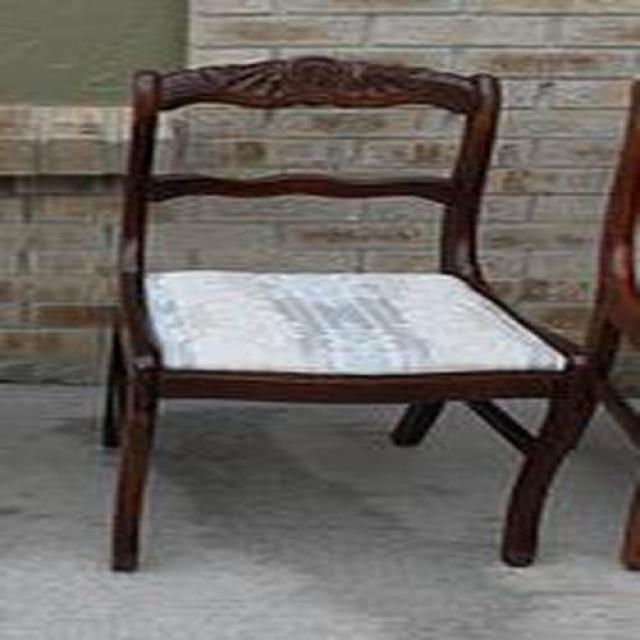chair: (102, 51, 594, 576)
